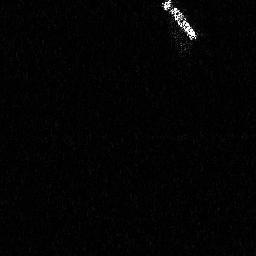ship: (157, 1, 201, 44)
